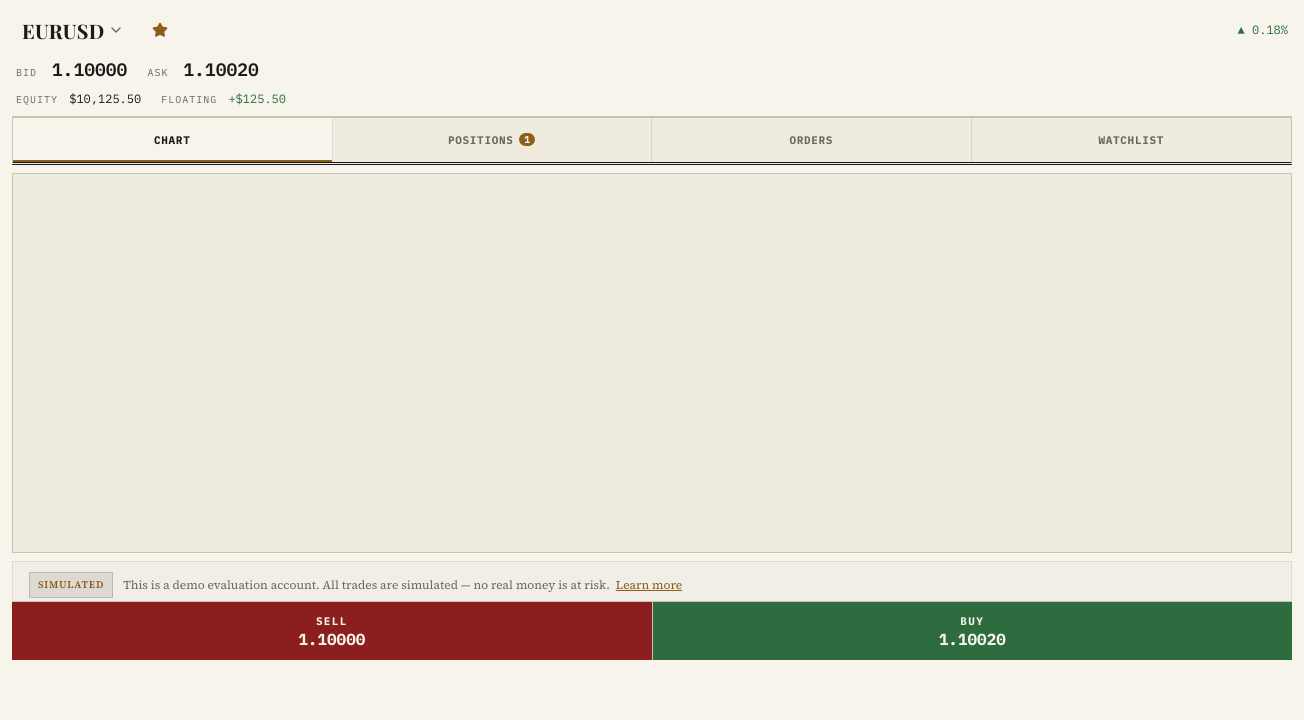
Scenario: MobileTradingTerminal › reaches positions, orders and watchlist without leaving the screen
Click the tab "Positions 1". click: (492, 140)
box: [332, 118, 652, 162]
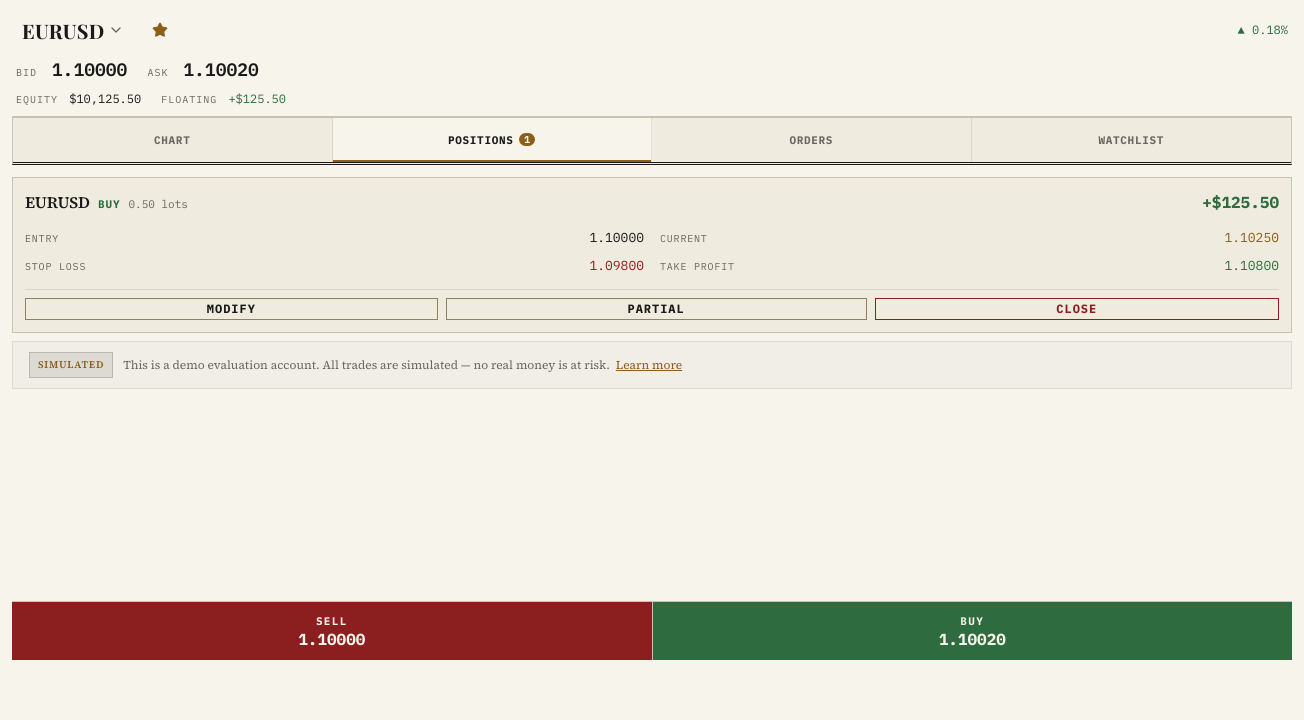
expect the text "+$125.50" is shown: met, box [1202, 190, 1279, 216]
Click the tab "Orders". click: (812, 140)
box: [652, 118, 972, 162]
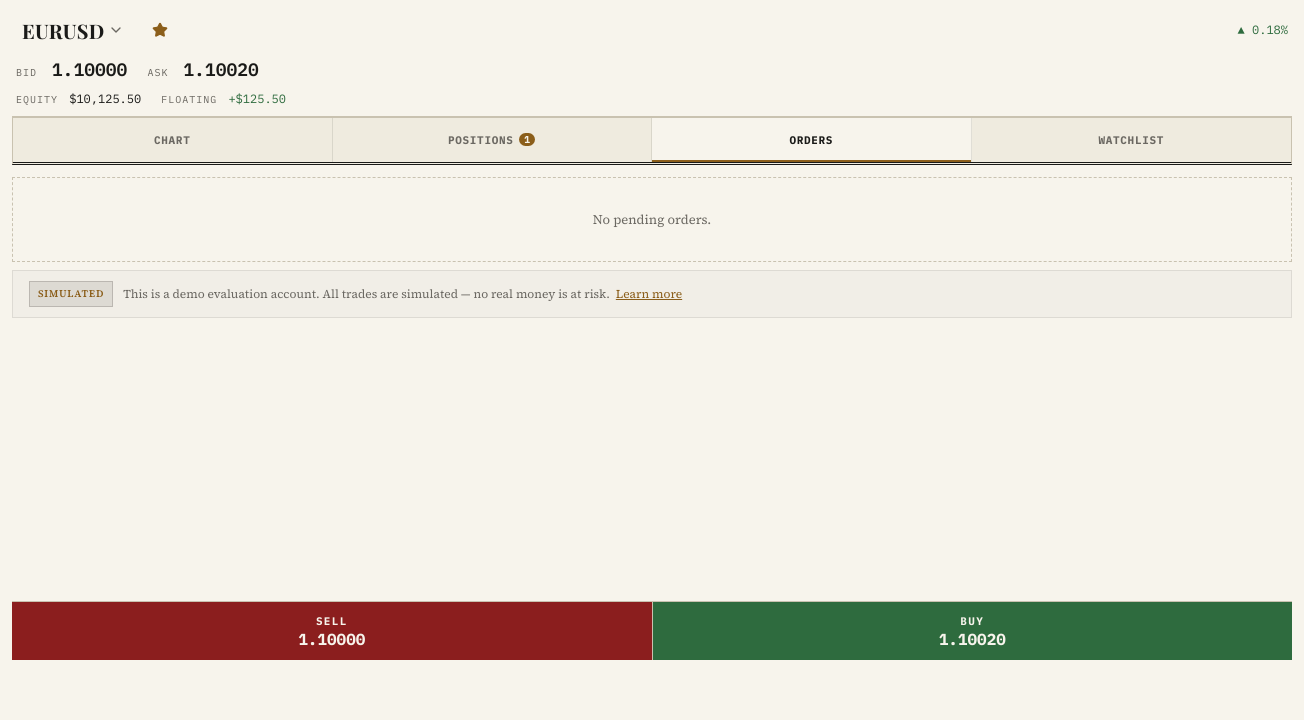
expect the text "No pending orders." is shown: met, box [12, 177, 1292, 262]
Click the tab "Watchlist". click: (1131, 140)
box: [972, 118, 1291, 162]
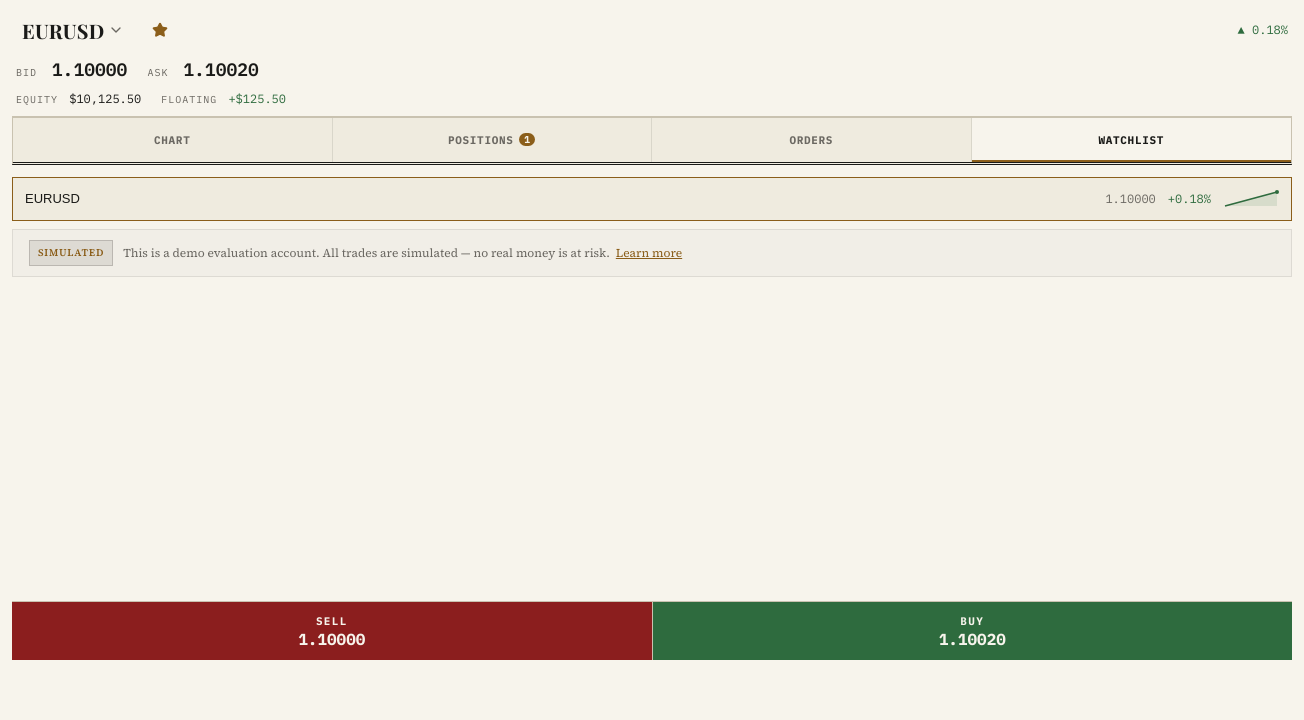
expect the 2nd text "EURUSD" is shown: met, box [25, 192, 80, 206]
